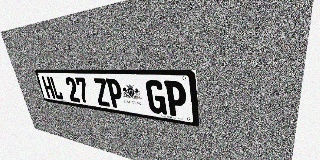2: (64, 77, 80, 102)
7: (74, 77, 91, 104)
G: (145, 80, 167, 115)
H: (41, 76, 56, 99)
L: (49, 76, 64, 100)
P: (164, 80, 187, 118), (105, 78, 124, 109)
Z: (93, 78, 111, 107)
